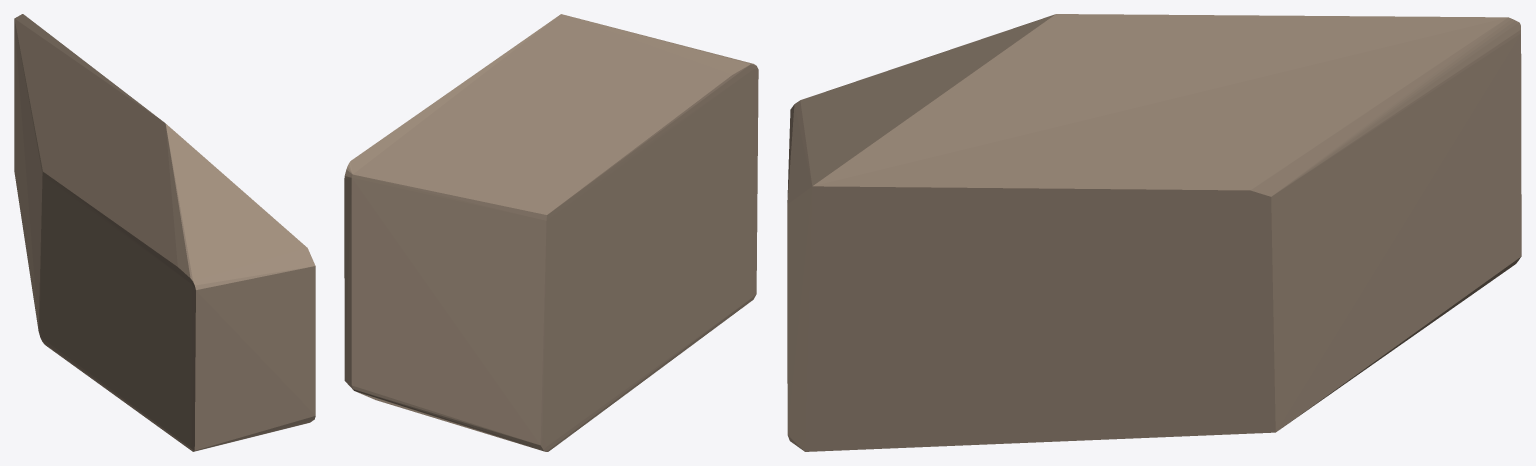
Rendered from cabinet_file_d03.glb.
The picture shows the model from 3 angles, left to right: view 1: azimuth 30°, elevation 25°; view 2: azimuth 150°, elevation 25°; view 3: azimuth 270°, elevation 25°; orthographic projection. The views are drawn at different scales.
Parts seen in each view (by area): view 1: geometry_0; view 2: geometry_0; view 3: geometry_0.
Part boxes in pixels (x1=…): geometry_0: x1=14, y1=14, x2=315, y2=451; geometry_0: x1=344, y1=14, x2=758, y2=451; geometry_0: x1=787, y1=14, x2=1521, y2=451.
Bounding box in the file's own units: 0.1378 × 0.2847 × 0.4797.
